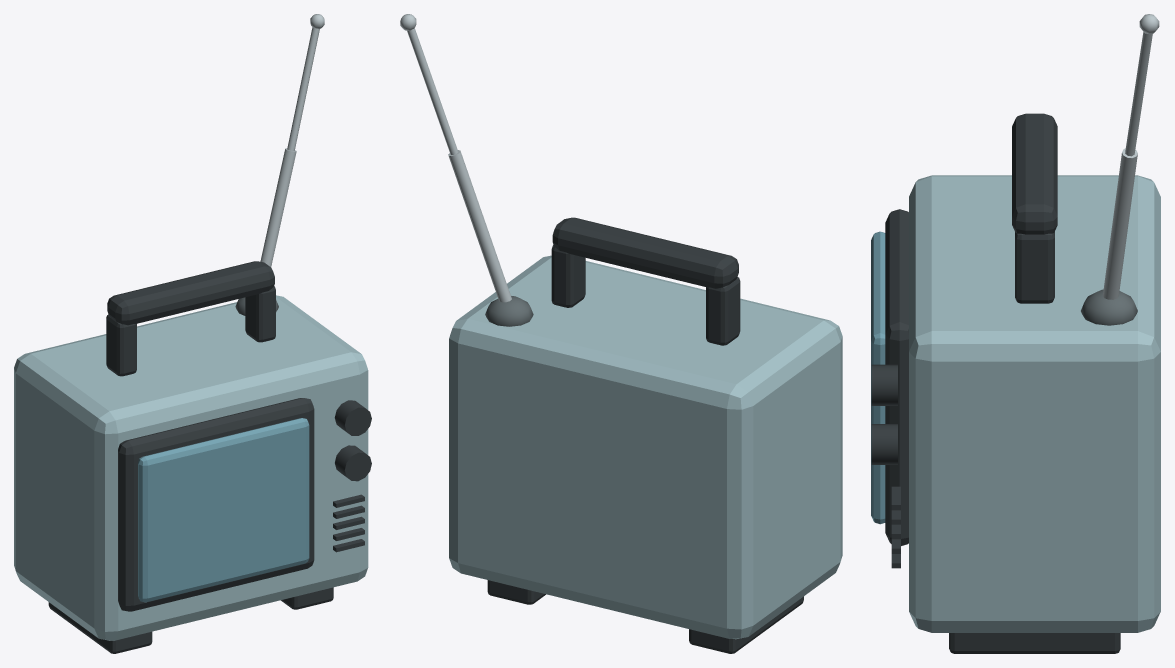
Rendered from tv_portable.glb.
The picture shows the model from 3 angles, left to right: view 1: azimuth 30°, elevation 25°; view 2: azimuth 150°, elevation 25°; view 3: azimuth 270°, elevation 25°; orthographic projection. The views are drawn at different scales.
Parts seen in each view (by area): view 1: Portable_TV_Case, Portable_TV_Screen, Portable_TV_Screen_Bezel, Portable_TV_Carry_Handle, Portable_TV_Handle_Support_-1, Portable_TV_Handle_Support_1, Portable_TV_Antenna_Lower, Portable_TV_Antenna_Upper, Portable_TV_Foot_-0.12, Portable_TV_Dial_1, Portable_TV_Dial_0, Portable_TV_Foot_0.12; view 2: Portable_TV_Case, Portable_TV_Carry_Handle, Portable_TV_Antenna_Lower, Portable_TV_Handle_Support_-1, Portable_TV_Handle_Support_1, Portable_TV_Foot_-0.12, Portable_TV_Antenna_Upper, Portable_TV_Antenna_Base, Portable_TV_Foot_0.12; view 3: Portable_TV_Case, Portable_TV_Screen_Bezel, Portable_TV_Carry_Handle, Portable_TV_Foot_0.12, Portable_TV_Screen, Portable_TV_Handle_Support_1, Portable_TV_Antenna_Lower, Portable_TV_Antenna_Base, Portable_TV_Antenna_Upper, Portable_TV_Dial_0, Portable_TV_Dial_1.
Boxes of the visible parts, <box> form: Portable_TV_Case: <box>14,295,368,640</box>; Portable_TV_Screen: <box>138,418,309,602</box>; Portable_TV_Screen_Bezel: <box>118,398,314,611</box>; Portable_TV_Carry_Handle: <box>107,261,274,325</box>; Portable_TV_Handle_Support_-1: <box>106,314,136,376</box>; Portable_TV_Handle_Support_1: <box>245,286,275,342</box>; Portable_TV_Antenna_Lower: <box>260,148,296,267</box>; Portable_TV_Antenna_Upper: <box>287,27,319,150</box>; Portable_TV_Foot_-0.12: <box>48,602,152,653</box>; Portable_TV_Dial_1: <box>335,445,371,481</box>; Portable_TV_Dial_0: <box>334,400,371,435</box>; Portable_TV_Foot_0.12: <box>281,587,333,609</box>; Portable_TV_Case: <box>449,255,842,639</box>; Portable_TV_Carry_Handle: <box>552,217,738,288</box>; Portable_TV_Antenna_Lower: <box>448,150,511,302</box>; Portable_TV_Handle_Support_-1: <box>706,277,740,345</box>; Portable_TV_Handle_Support_1: <box>551,245,585,307</box>; Portable_TV_Foot_-0.12: <box>689,596,803,653</box>; Portable_TV_Antenna_Upper: <box>407,28,458,154</box>; Portable_TV_Antenna_Base: <box>485,296,533,326</box>; Portable_TV_Foot_0.12: <box>487,580,545,604</box>; Portable_TV_Case: <box>909,175,1160,632</box>; Portable_TV_Screen_Bezel: <box>885,209,908,545</box>; Portable_TV_Carry_Handle: <box>1012,113,1057,234</box>; Portable_TV_Foot_0.12: <box>949,633,1120,653</box>; Portable_TV_Screen: <box>871,231,885,524</box>; Portable_TV_Handle_Support_1: <box>1015,231,1054,303</box>; Portable_TV_Antenna_Lower: <box>1103,148,1137,299</box>; Portable_TV_Antenna_Base: <box>1081,289,1137,325</box>; Portable_TV_Antenna_Upper: <box>1125,32,1152,156</box>; Portable_TV_Dial_0: <box>871,364,897,405</box>; Portable_TV_Dial_1: <box>871,424,897,464</box>.
Bounding box in the file's own units: 0.4136 × 0.654 × 0.253.
